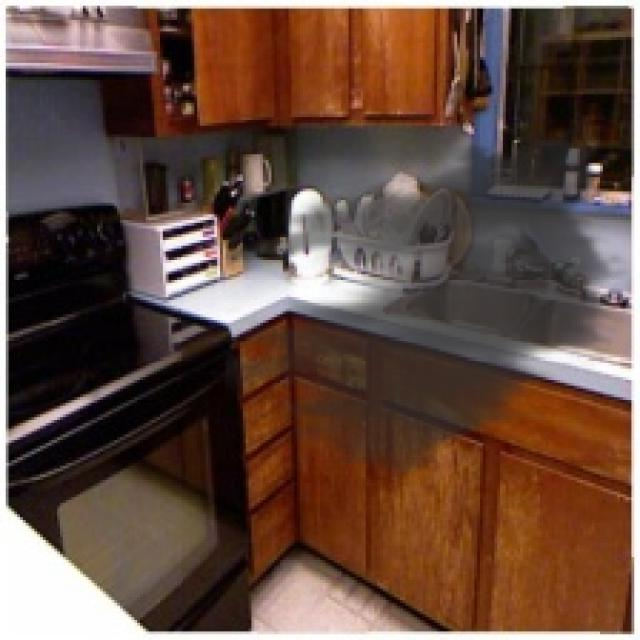smoke: (226, 117, 634, 486)
